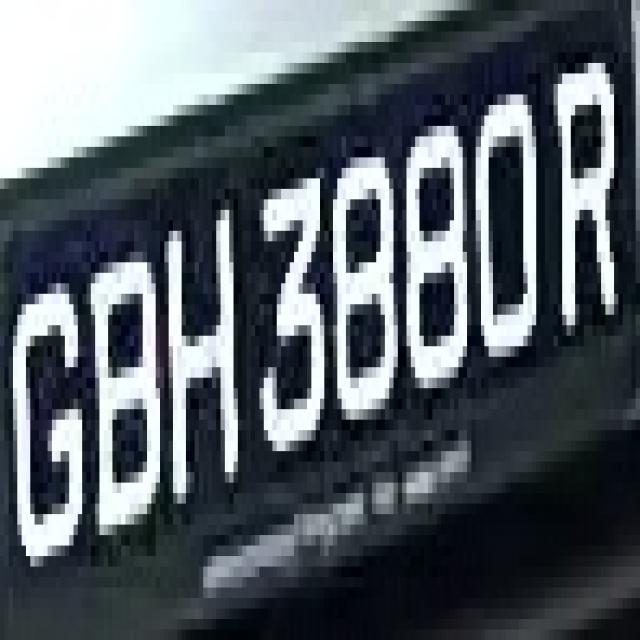0: (454, 94, 558, 399)
3: (251, 137, 324, 472)
8: (320, 116, 406, 451), (398, 116, 480, 430)
B: (82, 220, 164, 556)
G: (9, 231, 82, 587)
H: (152, 189, 246, 545)
R: (549, 52, 623, 346)
